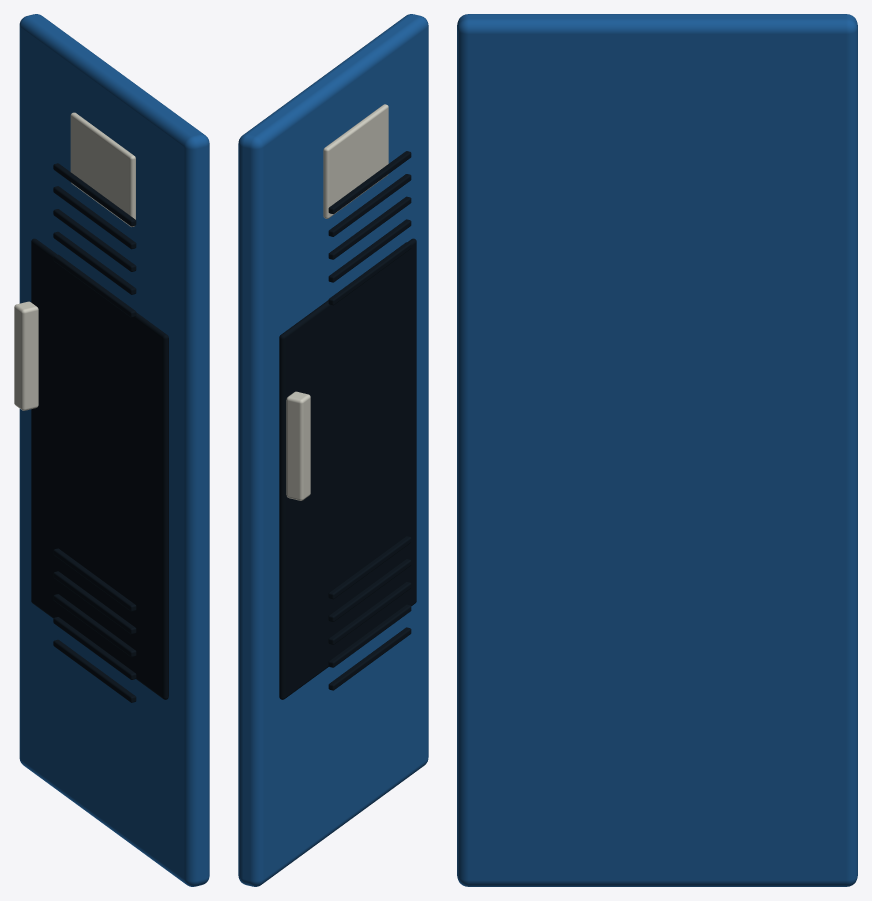
Rendered from locker-door.gltf.
The picture shows the model from 3 angles, left to right: view 1: azimuth 30°, elevation 25°; view 2: azimuth 150°, elevation 25°; view 3: azimuth 270°, elevation 25°; orthographic projection. The views are drawn at different scales.
Parts seen in each view (by area): view 1: anomaly-door-panel, anomaly-door-recess, anomaly-door-number-plate, anomaly-door-handle, anomaly-door-top-vent-3, anomaly-door-bottom-vent-0, anomaly-door-top-vent-4, anomaly-door-top-vent-1, anomaly-door-bottom-vent-2, anomaly-door-bottom-vent-3, anomaly-door-bottom-vent-4, anomaly-door-top-vent-0 (+2 smaller); view 2: anomaly-door-panel, anomaly-door-recess, anomaly-door-number-plate, anomaly-door-handle, anomaly-door-bottom-vent-1, anomaly-door-bottom-vent-0, anomaly-door-top-vent-0, anomaly-door-top-vent-1, anomaly-door-top-vent-2, anomaly-door-bottom-vent-2, anomaly-door-bottom-vent-4, anomaly-door-top-vent-3 (+2 smaller); view 3: anomaly-door-panel.
Part boxes in pixels (x1,y1,x2,y2): anomaly-door-panel: (19, 14, 209, 886); anomaly-door-recess: (31, 238, 168, 699); anomaly-door-number-plate: (70, 112, 135, 226); anomaly-door-handle: (14, 301, 38, 410); anomaly-door-top-vent-3: (53, 186, 136, 249); anomaly-door-bottom-vent-0: (53, 639, 136, 702); anomaly-door-top-vent-4: (53, 163, 136, 226); anomaly-door-top-vent-1: (53, 231, 136, 294); anomaly-door-bottom-vent-2: (53, 594, 136, 657); anomaly-door-bottom-vent-3: (53, 571, 136, 634); anomaly-door-bottom-vent-4: (53, 548, 136, 611); anomaly-door-top-vent-0: (53, 254, 136, 317); anomaly-door-panel: (238, 14, 428, 886); anomaly-door-recess: (279, 238, 416, 699); anomaly-door-number-plate: (323, 104, 388, 218); anomaly-door-handle: (286, 391, 310, 500); anomaly-door-bottom-vent-1: (328, 604, 411, 667); anomaly-door-bottom-vent-0: (328, 627, 411, 690); anomaly-door-top-vent-0: (328, 242, 411, 305); anomaly-door-top-vent-1: (328, 219, 411, 282); anomaly-door-top-vent-2: (328, 196, 411, 259); anomaly-door-bottom-vent-2: (328, 582, 411, 644); anomaly-door-bottom-vent-4: (328, 536, 411, 599); anomaly-door-top-vent-3: (328, 174, 411, 236); anomaly-door-panel: (457, 14, 857, 886).
Bounding box in the file's own units: 0.0975 × 1.48 × 0.62.
